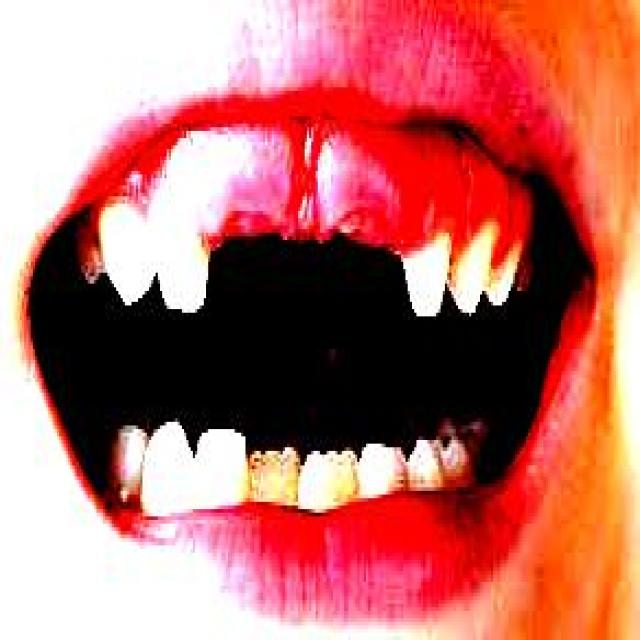caries: (248, 438, 302, 498)
